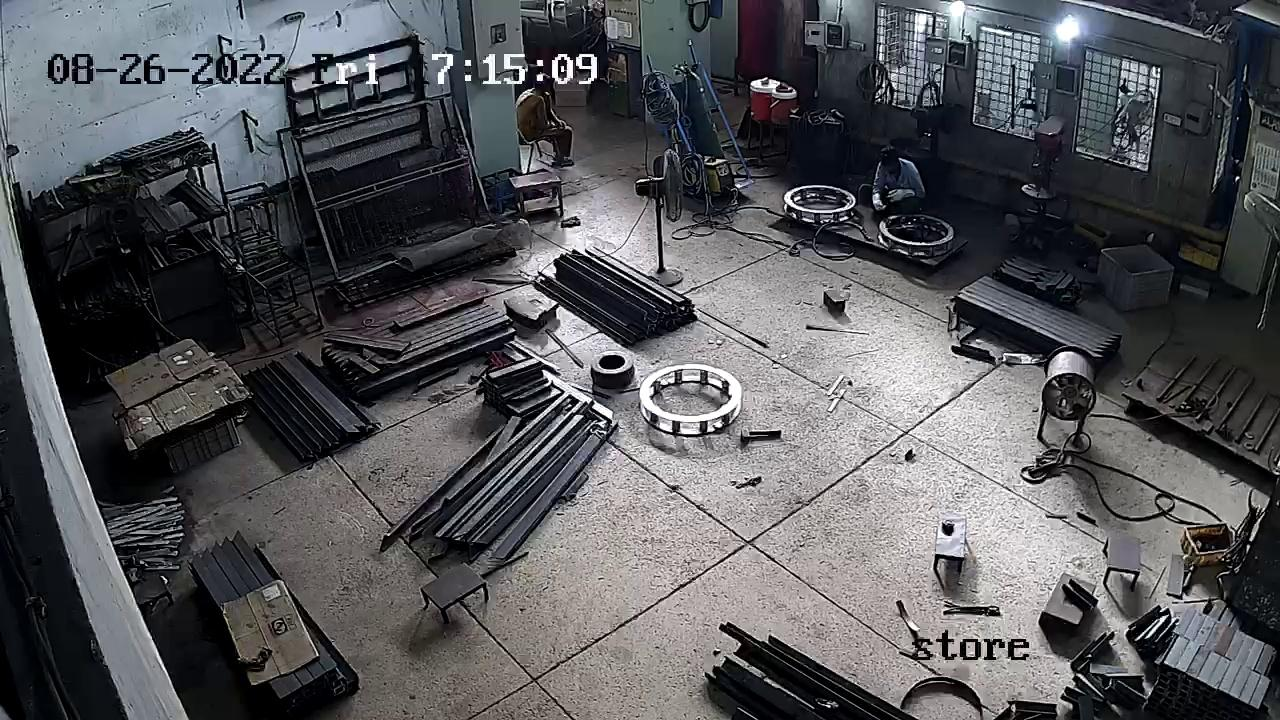person: (513, 87, 579, 164), (871, 147, 931, 213)
